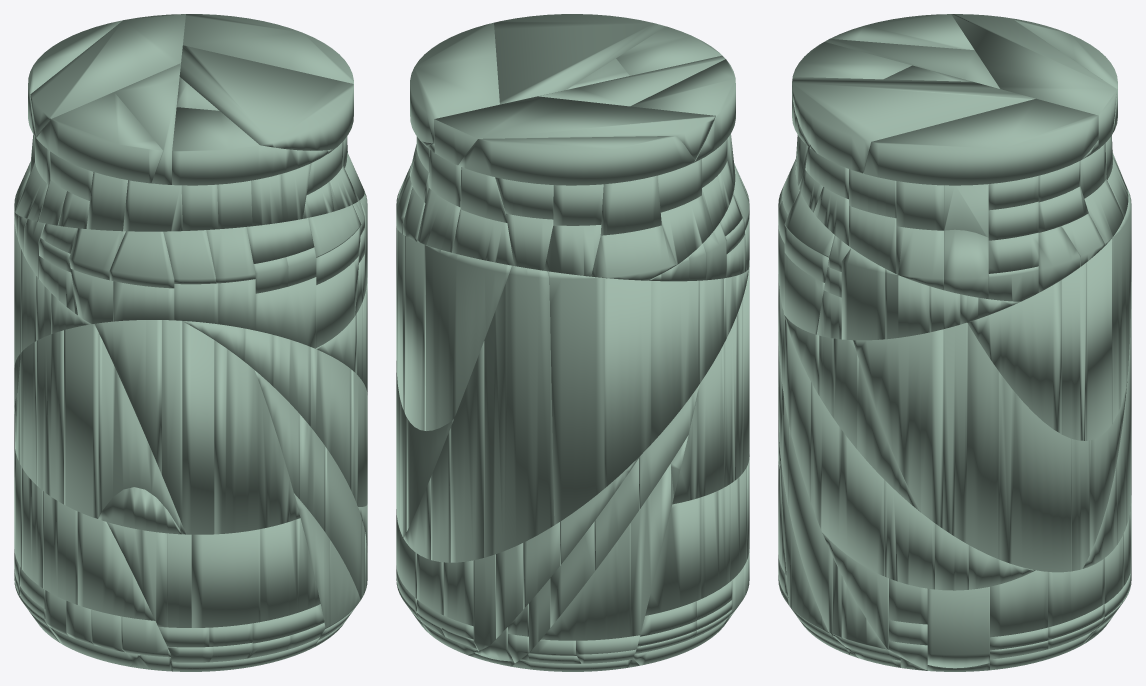
The model's file is collision-hulls.glb.
3 views of the same model, side by side, from view 1: azimuth 30°, elevation 25°; view 2: azimuth 150°, elevation 25°; view 3: azimuth 270°, elevation 25° (orthographic).
Parts seen in each view (by area): view 1: fragment-001-hull-00, fragment-021-hull-00, fragment-012-hull-00, fragment-015-hull-00, fragment-018-hull-00, fragment-021-hull-01, fragment-005-hull-01, fragment-022-hull-01, fragment-022-hull-00, fragment-002-hull-00, fragment-021-hull-03, fragment-004-hull-00 (+76 smaller); view 2: fragment-016-hull-03, fragment-017-hull-05, fragment-008-hull-03, fragment-012-hull-00, fragment-001-hull-00, fragment-013-hull-00, fragment-017-hull-04, fragment-002-hull-00, fragment-017-hull-03, fragment-016-hull-02, fragment-028-hull-01, fragment-022-hull-03 (+60 smaller); view 3: fragment-002-hull-00, fragment-001-hull-00, fragment-009-hull-02, fragment-009-hull-01, fragment-009-hull-00, fragment-007-hull-00, fragment-012-hull-00, fragment-008-hull-00, fragment-006-hull-04, fragment-008-hull-02, fragment-007-hull-01, fragment-008-hull-01 (+66 smaller).
Boxes of the visible parts, x1=… form: fragment-001-hull-00: x1=179, y1=45, x2=353, y2=150; fragment-021-hull-00: x1=214, y1=340, x2=300, y2=534; fragment-012-hull-00: x1=30, y1=14, x2=185, y2=136; fragment-015-hull-00: x1=172, y1=107, x2=327, y2=185; fragment-018-hull-00: x1=36, y1=92, x2=162, y2=183; fragment-021-hull-01: x1=182, y1=321, x2=214, y2=534; fragment-005-hull-01: x1=191, y1=529, x2=260, y2=627; fragment-022-hull-01: x1=64, y1=324, x2=98, y2=518; fragment-022-hull-00: x1=98, y1=333, x2=185, y2=534; fragment-002-hull-00: x1=183, y1=14, x2=353, y2=121; fragment-021-hull-03: x1=95, y1=320, x2=161, y2=474; fragment-004-hull-00: x1=77, y1=511, x2=155, y2=620; fragment-016-hull-03: x1=484, y1=265, x2=554, y2=557; fragment-017-hull-05: x1=547, y1=271, x2=604, y2=524; fragment-008-hull-03: x1=424, y1=245, x2=511, y2=430; fragment-012-hull-00: x1=434, y1=96, x2=715, y2=165; fragment-001-hull-00: x1=494, y1=14, x2=665, y2=104; fragment-013-hull-00: x1=458, y1=136, x2=694, y2=185; fragment-017-hull-04: x1=604, y1=278, x2=651, y2=487; fragment-002-hull-00: x1=410, y1=22, x2=499, y2=143; fragment-017-hull-03: x1=651, y1=280, x2=699, y2=443; fragment-016-hull-02: x1=450, y1=341, x2=484, y2=562; fragment-028-hull-01: x1=541, y1=523, x2=630, y2=640; fragment-022-hull-03: x1=672, y1=343, x2=724, y2=504; fragment-002-hull-00: x1=863, y1=98, x2=1098, y2=185; fragment-001-hull-00: x1=792, y1=77, x2=1035, y2=173; fragment-009-hull-02: x1=998, y1=371, x2=1071, y2=572; fragment-009-hull-01: x1=943, y1=322, x2=998, y2=558; fragment-009-hull-00: x1=853, y1=329, x2=943, y2=528; fragment-007-hull-00: x1=811, y1=382, x2=884, y2=575; fragment-012-hull-00: x1=951, y1=14, x2=1117, y2=148; fragment-008-hull-00: x1=967, y1=280, x2=1061, y2=433; fragment-006-hull-04: x1=927, y1=587, x2=989, y2=668; fragment-008-hull-02: x1=1086, y1=239, x2=1111, y2=440; fragment-007-hull-01: x1=884, y1=480, x2=934, y2=589; fragment-008-hull-01: x1=1061, y1=263, x2=1085, y2=440.
Bounding box in the file's own units: 0.1043 × 0.17 × 0.1043.
